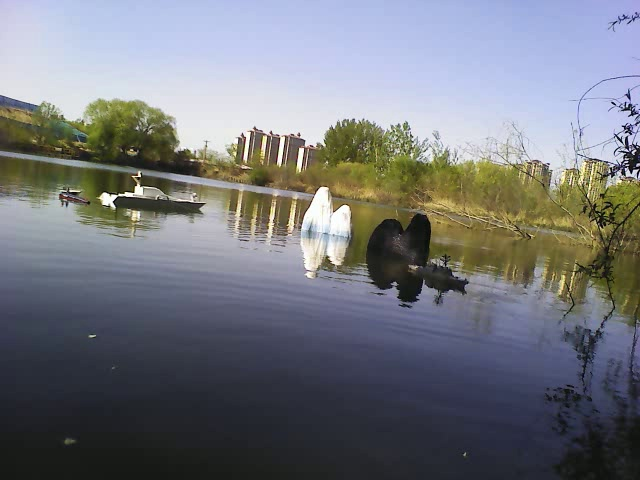boat: (100, 170, 208, 214)
iceberg: (297, 176, 357, 238)
rock: (366, 206, 435, 269)
submarine: (59, 187, 91, 205)
warship: (407, 254, 474, 293)
